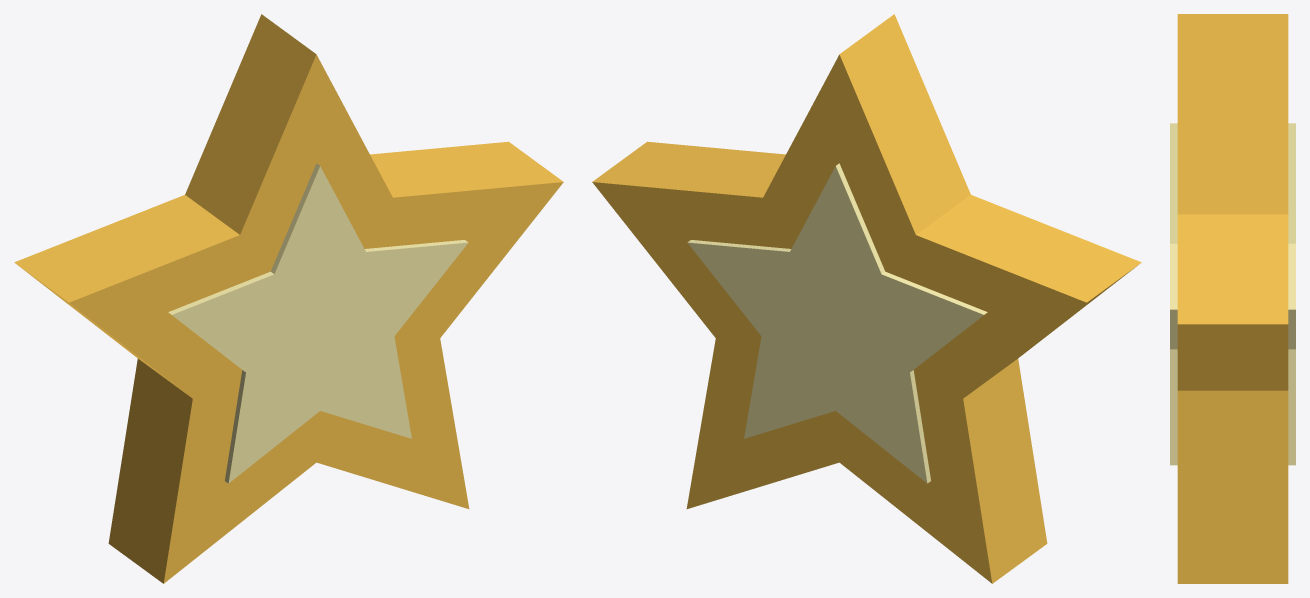
The model's file is CleanACat_Prop_Star.fbx.
3 renders of one model, left to right at view 1: azimuth 30°, elevation 25°; view 2: azimuth 150°, elevation 25°; view 3: azimuth 270°, elevation 25°, orthographic.
Parts seen in each view (by area): view 1: CleanACat_Prop_Star; view 2: CleanACat_Prop_Star; view 3: CleanACat_Prop_Star.
Part boxes in pixels (bbox=[...]): CleanACat_Prop_Star: bbox=[14, 14, 563, 583]; CleanACat_Prop_Star: bbox=[592, 14, 1141, 583]; CleanACat_Prop_Star: bbox=[1170, 14, 1295, 583].
Size of the model in its own units: 1.14 by 1.09 by 0.25.
Materials: 1 (1 with a texture image).
